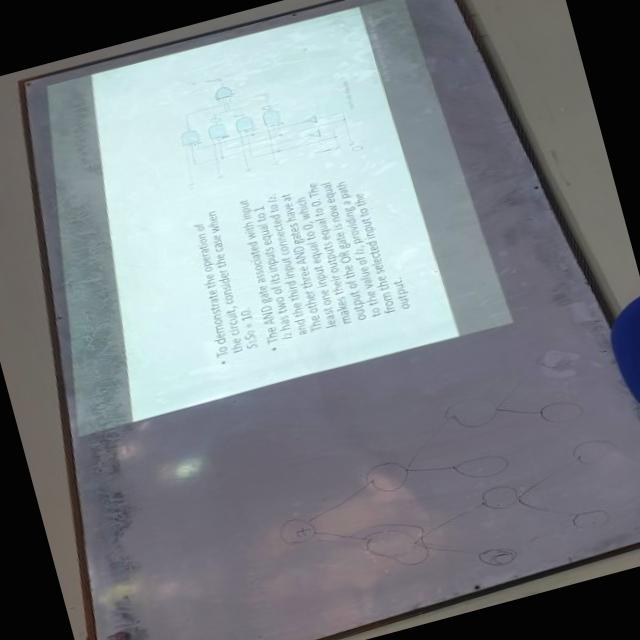Slide: (45, 0, 512, 435)
White-board: (15, 0, 640, 640)
